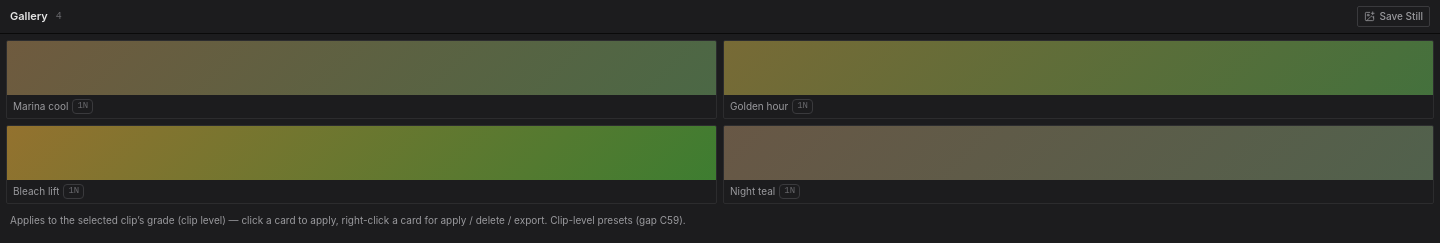
StillsPanel — the #70 context menu (both §4.9 routes) › menu Delete removes the still (view state; the grade records are untouched)
The width and height of the screenshot is (1440, 243).
Right-click the button with test id "shell-still-still-02-apply" at (1078, 80), box [724,41,1433,118]
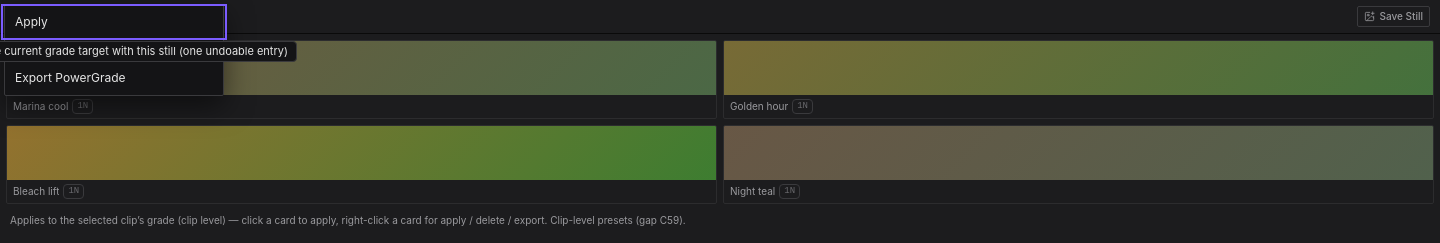
Click the menu item with test id "shell-menu-stills-delete" at (114, 50), box [5,36,223,64]
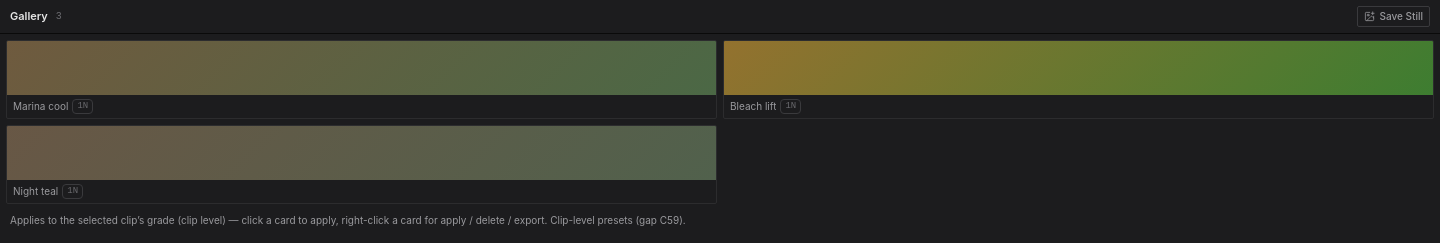
Expected: the list item with test id "shell-still-still-02" is gone
Expected: the menu with test id "shell-menu-stills" is gone
